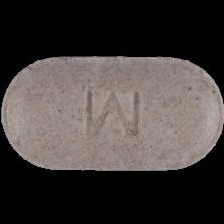0378-1813: (0, 0, 224, 224)
